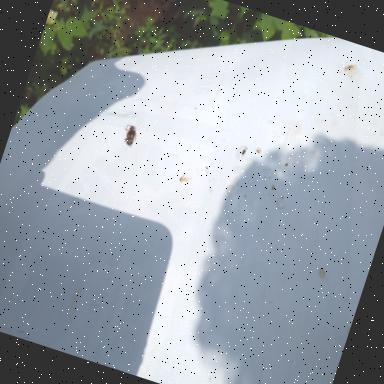pbw: (178, 168, 192, 184)
